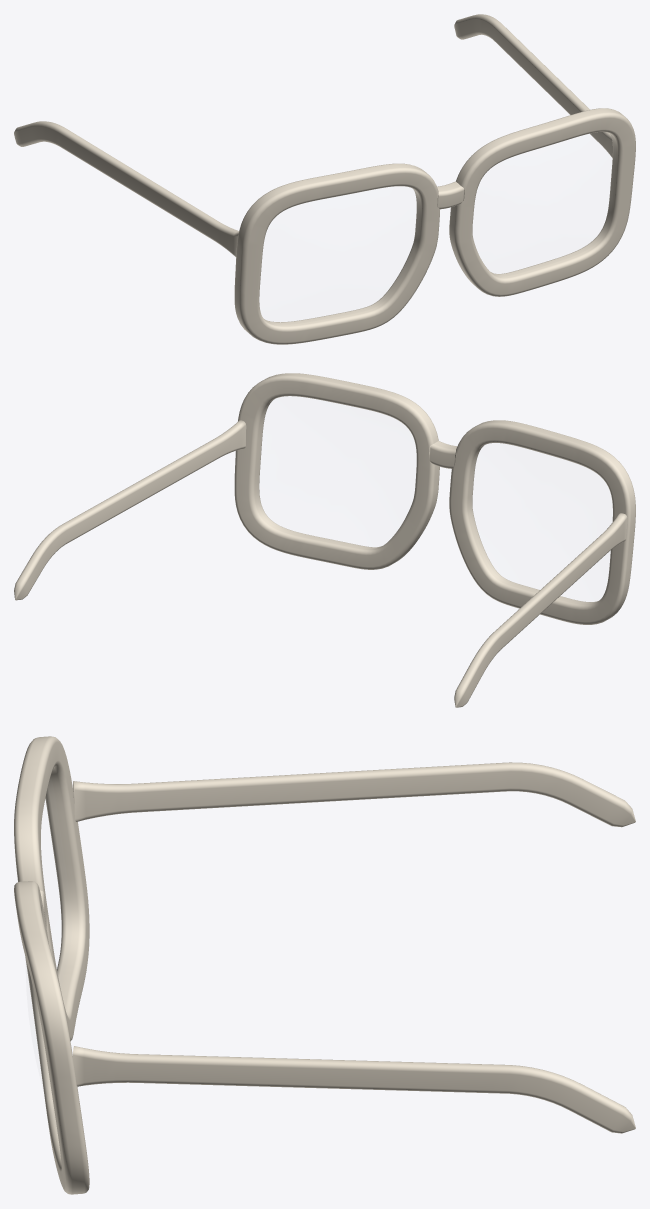
The model's file is oversized.glb.
3 renders of one model, top to bottom at view 1: azimuth 30°, elevation 25°; view 2: azimuth 150°, elevation 25°; view 3: azimuth 270°, elevation 25°, orthographic. The views are drawn at different scales.
Visible parts, largest first — view 1: glasses; view 2: glasses; view 3: glasses.
Boxes of the visible parts, x1,y1,x2,y2 form: glasses: (14,14,635,344); glasses: (14,373,635,707); glasses: (14,736,635,1194).
Bounding box in the file's own units: 0.1652 × 0.0598 × 0.139.
Materials: 2 (1 with a texture image).
